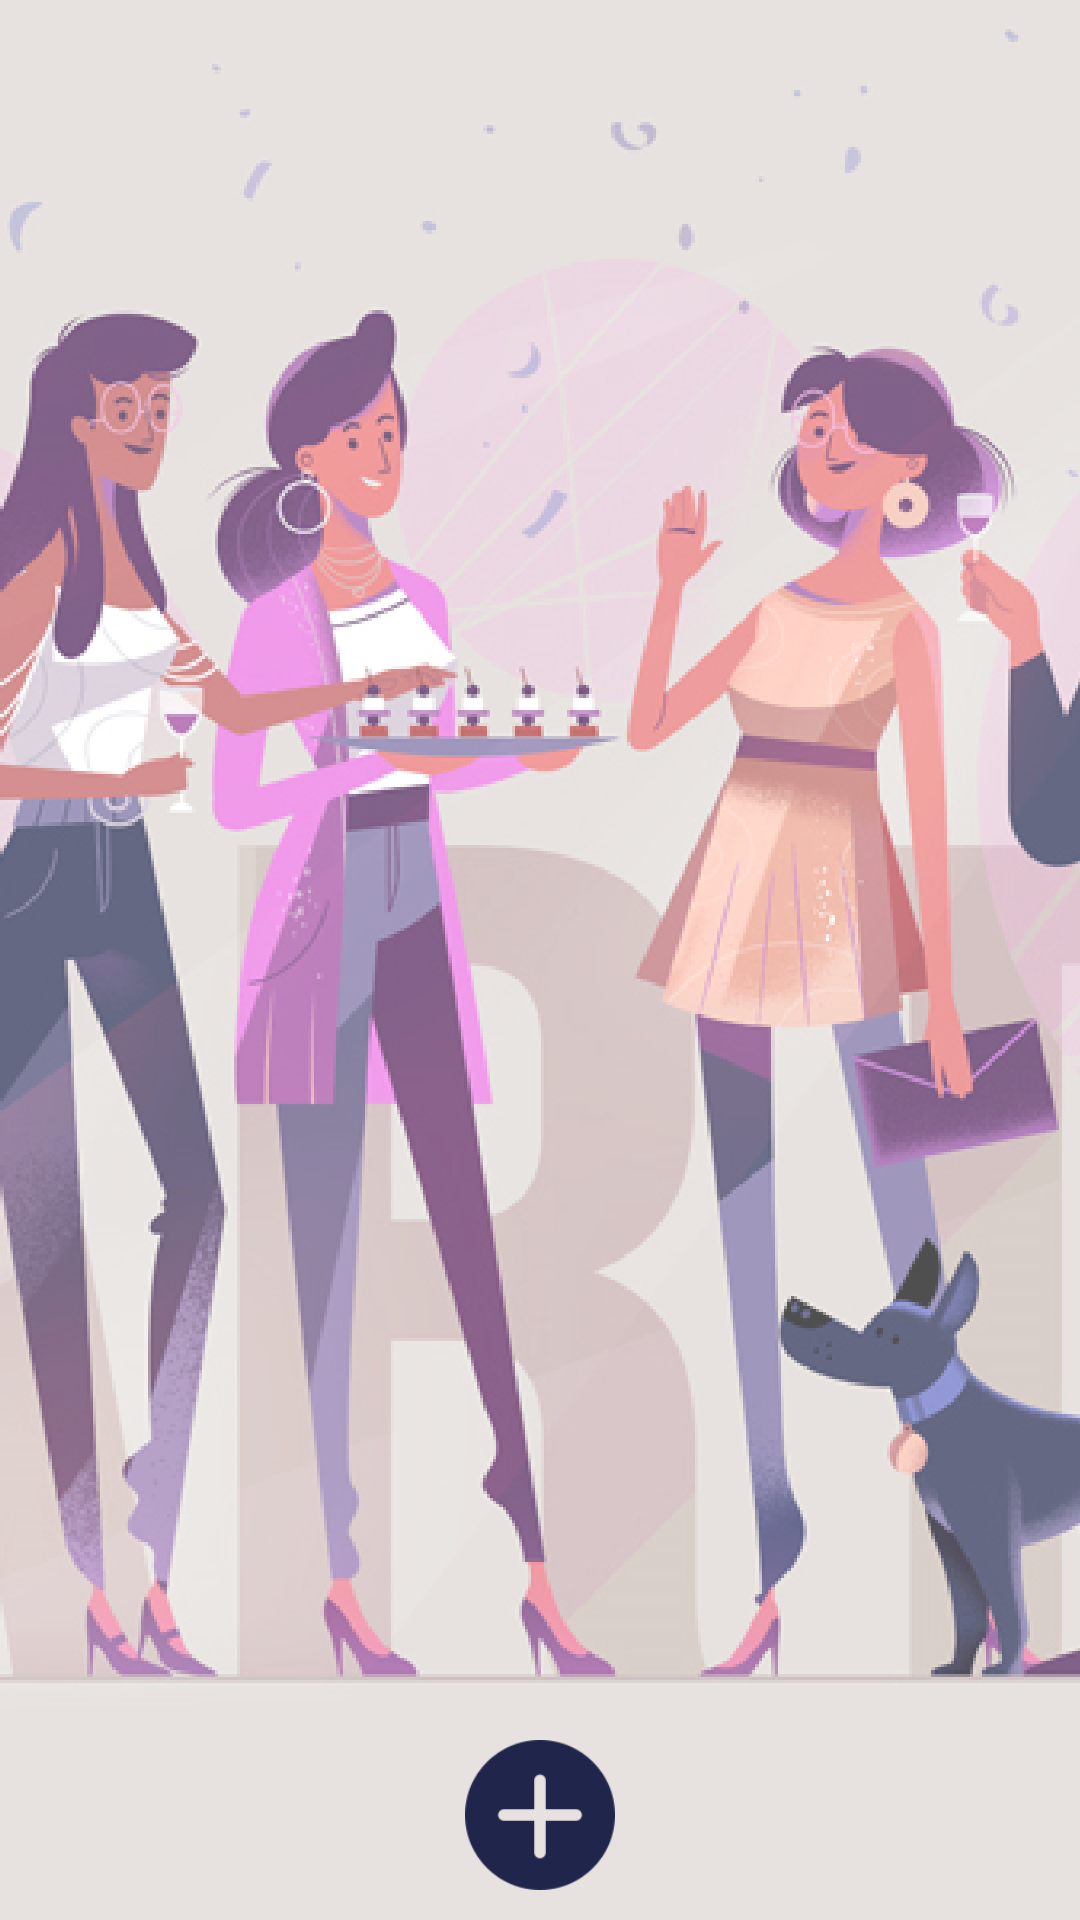

Named icons in this screenshot (1080×1920) and their bounding boxes, region(x1, y1, x2, y2):
plus: region(465, 1740, 615, 1890)
